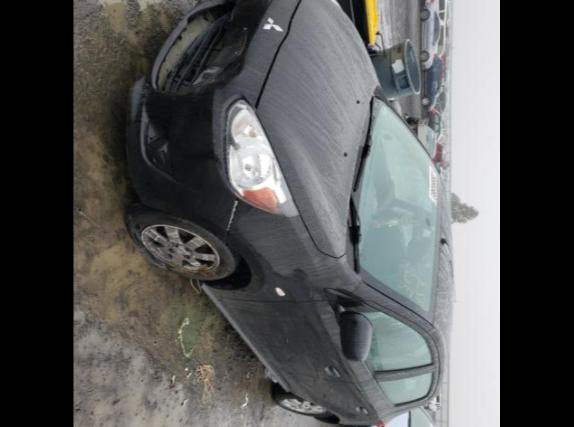Broken part: (126, 0, 304, 242)
Corrosion: (162, 258, 224, 276)
Dent: (196, 0, 274, 92)
Missing part: (158, 2, 230, 94)
